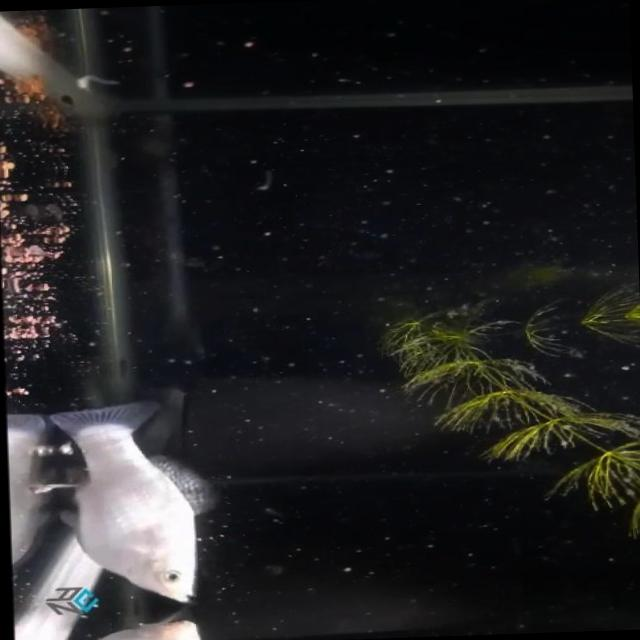PlatyFish: (25, 394, 232, 615)
